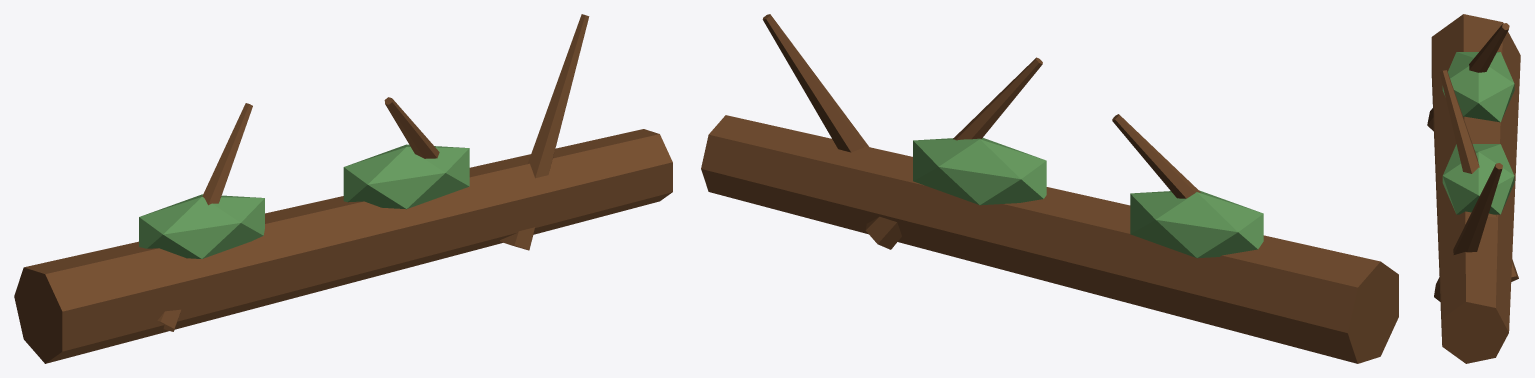
File: sm_env_forest_deadfall_branch.glb
3 views of the same model, side by side, from view 1: azimuth 30°, elevation 25°; view 2: azimuth 150°, elevation 25°; view 3: azimuth 270°, elevation 25° (orthographic). The views are drawn at different scales.
Parts seen in each view (by area): view 1: DeadfallLog, DeadfallMoss.001, DeadfallMoss, DeadfallBranch.002, DeadfallBranch, DeadfallBranch.001; view 2: DeadfallLog, DeadfallMoss.001, DeadfallMoss, DeadfallBranch.002, DeadfallBranch.001, DeadfallBranch; view 3: DeadfallLog, DeadfallMoss, DeadfallMoss.001, DeadfallBranch.002, DeadfallBranch.001, DeadfallBranch.
Part boxes in pixels (left/top/right/bottom): DeadfallLog: left=14, top=129, right=672, bottom=363; DeadfallMoss.001: left=343, top=144, right=469, bottom=209; DeadfallMoss: left=139, top=194, right=264, bottom=258; DeadfallBranch.002: left=500, top=14, right=589, bottom=250; DeadfallBranch: left=157, top=103, right=252, bottom=331; DeadfallBranch.001: left=384, top=97, right=439, bottom=158; DeadfallLog: left=701, top=115, right=1398, bottom=363; DeadfallMoss.001: left=913, top=138, right=1046, bottom=205; DeadfallMoss: left=1130, top=190, right=1263, bottom=258; DeadfallBranch.002: left=762, top=14, right=868, bottom=152; DeadfallBranch.001: left=865, top=57, right=1042, bottom=249; DeadfallBranch: left=1112, top=114, right=1200, bottom=198; DeadfallLog: left=1431, top=14, right=1520, bottom=363; DeadfallMoss: left=1442, top=52, right=1514, bottom=122; DeadfallMoss.001: left=1442, top=144, right=1514, bottom=214; DeadfallBranch.002: left=1434, top=163, right=1502, bottom=301; DeadfallBranch.001: left=1439, top=70, right=1518, bottom=281; DeadfallBranch: left=1427, top=23, right=1509, bottom=131.
Bounding box in the file's own units: 2.8 × 0.8681 × 0.3993.
